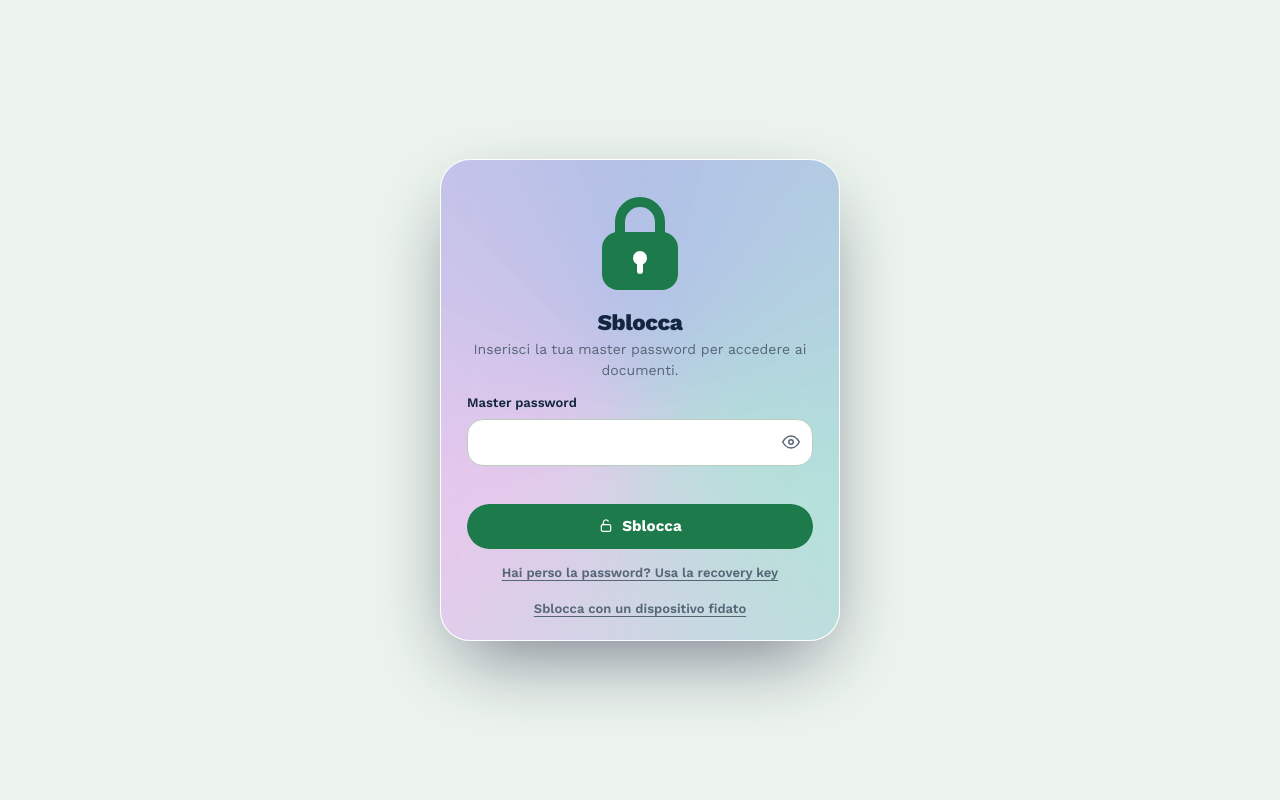
Test: UnlockDialog — password › una password sbagliata mostra l'errore e lo stato 'errore'
In the password field labelled "Master password": (640, 442) [467,419,813,466], type "sbagliata"
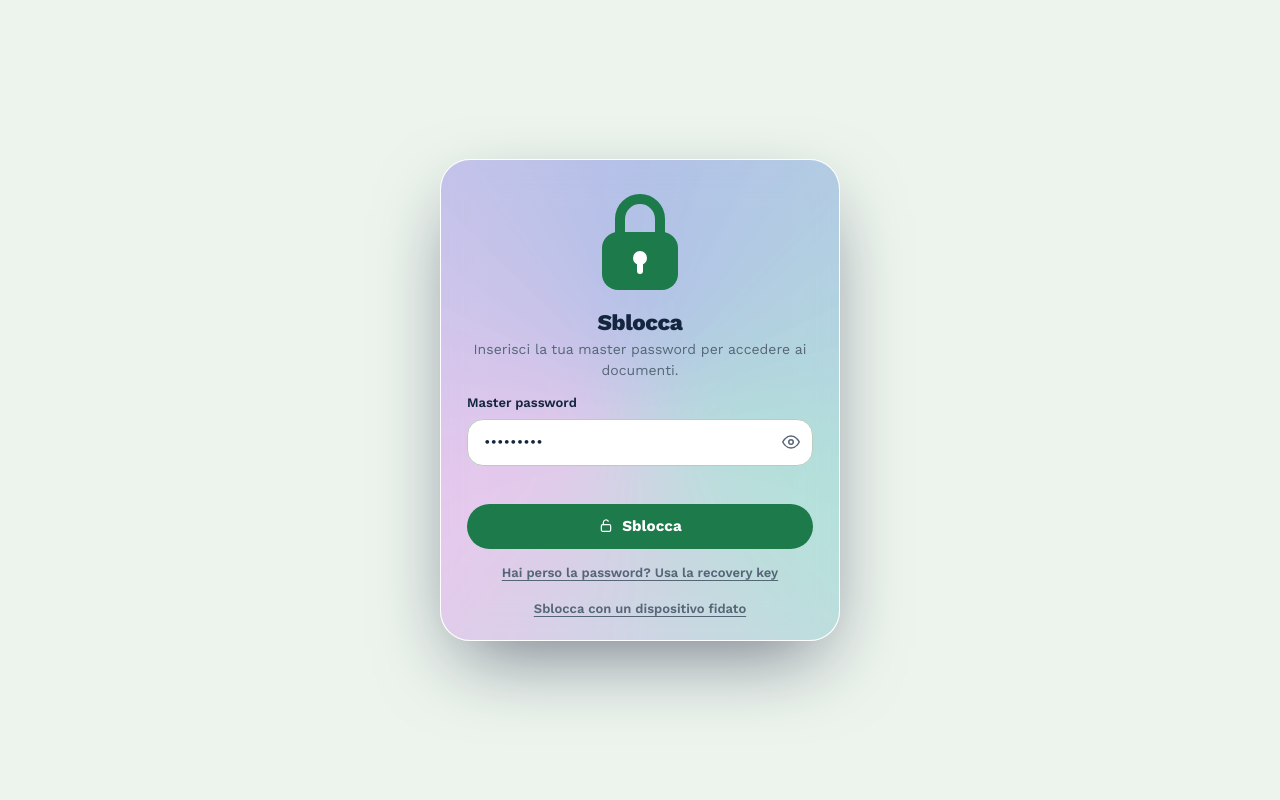
Click the button "Sblocca": (640, 526) [467,504,813,549]
Wait 5000 ms
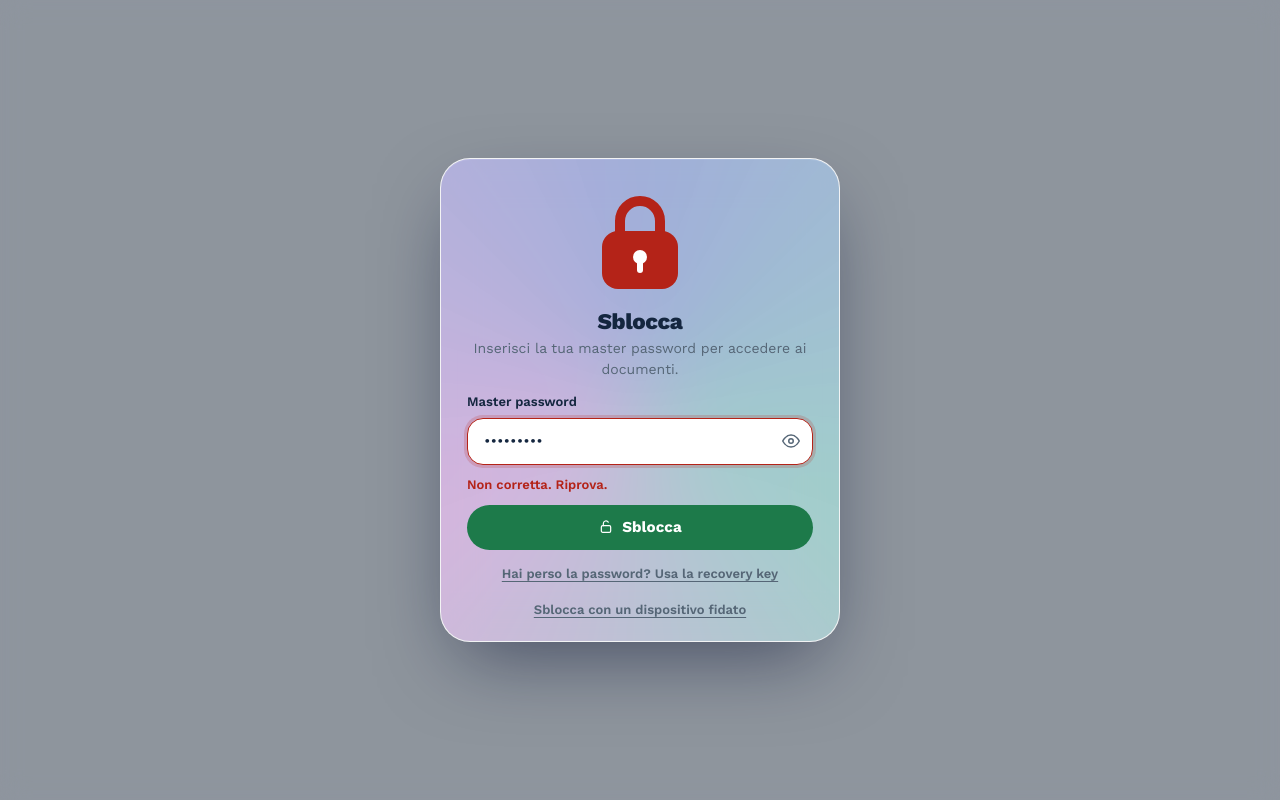
Expected: the message reads "Non corretta. Riprova.", [467,477,608,492]
In the password field labelled "Master password": (640, 442) [467,418,813,465], type "riprovo"
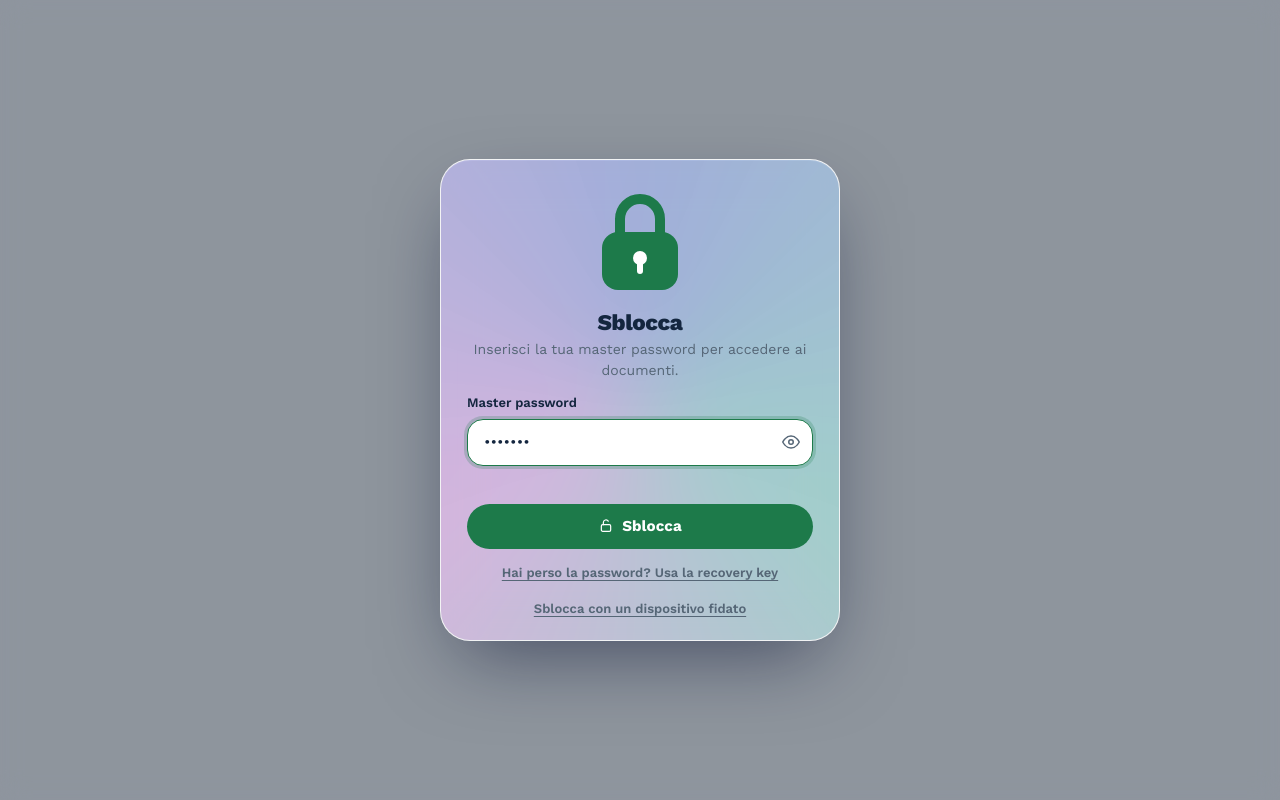
Expected: the message "Non corretta. Riprova." is gone
